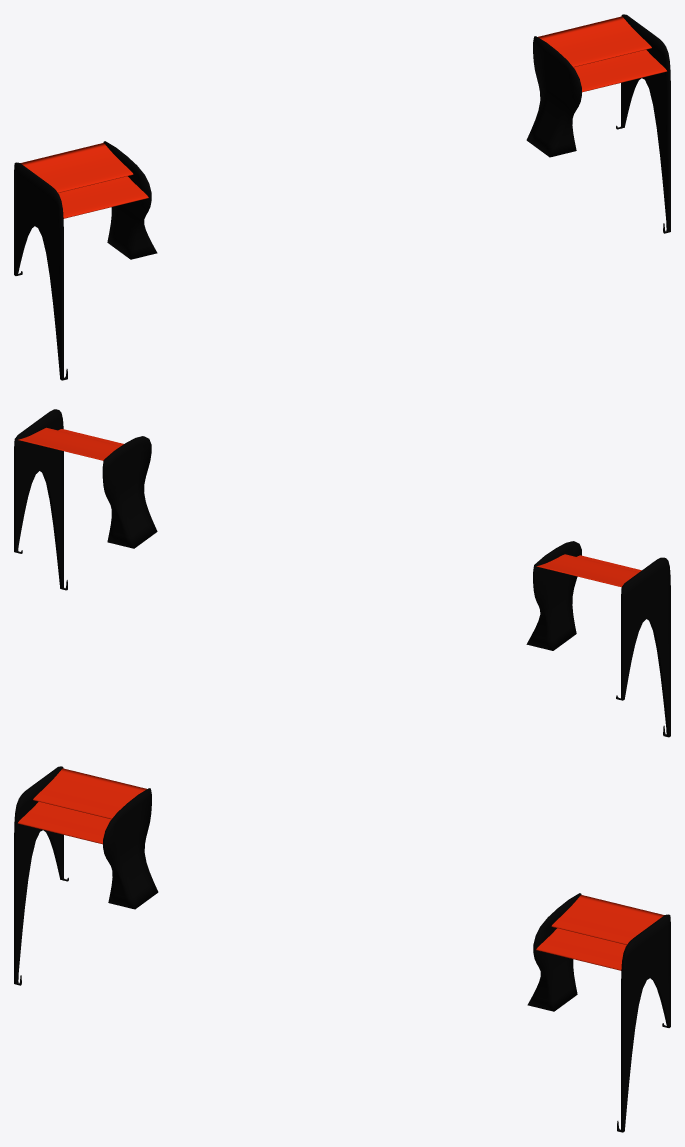
3 renders of one model, top to bottom at view 1: azimuth 30°, elevation 25°; view 2: azimuth 150°, elevation 25°; view 3: azimuth 330°, elevation 25°, orthographic.
Visible parts, largest first — view 1: FW4; view 2: FW4; view 3: FW4.
Part boxes in pixels (<box>): FW4: <box>14,14,670,380</box>; FW4: <box>14,409,670,737</box>; FW4: <box>14,766,670,1132</box>.
Size of the model in its own units: 2.39 by 0.6937 by 0.3242.
